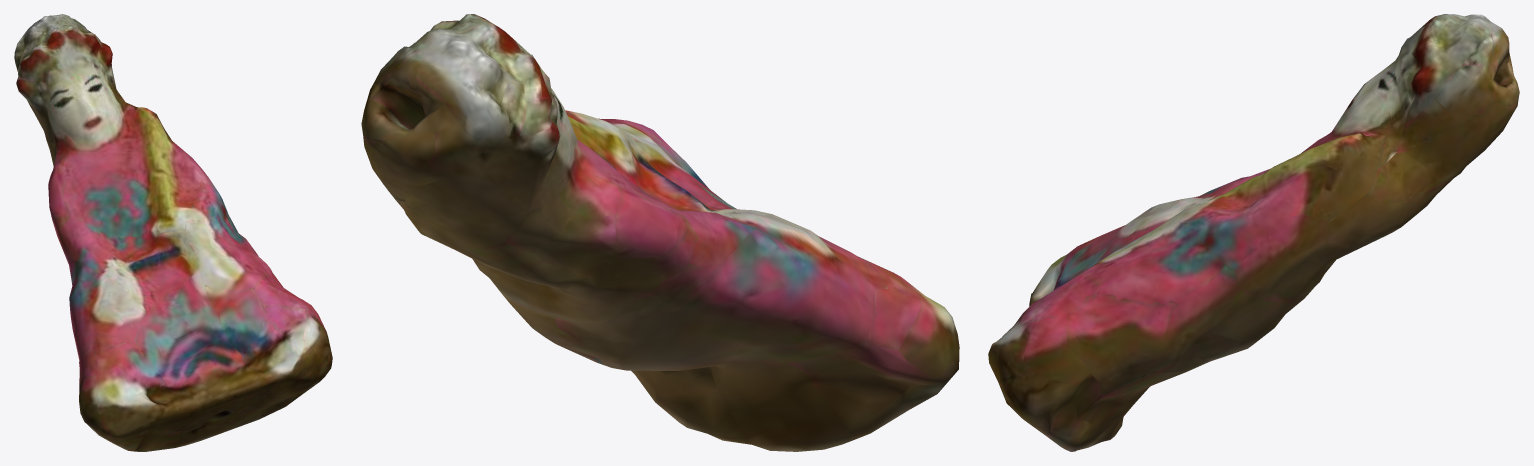
The model's file is hall.glb.
3 views of the same model, side by side, from view 1: azimuth 30°, elevation 25°; view 2: azimuth 150°, elevation 25°; view 3: azimuth 270°, elevation 25° (orthographic). The views are drawn at different scales.
Size of the model in its own units: 0.5802 by 0.7764 by 0.8906.
Materials: 1 (1 with a texture image).
